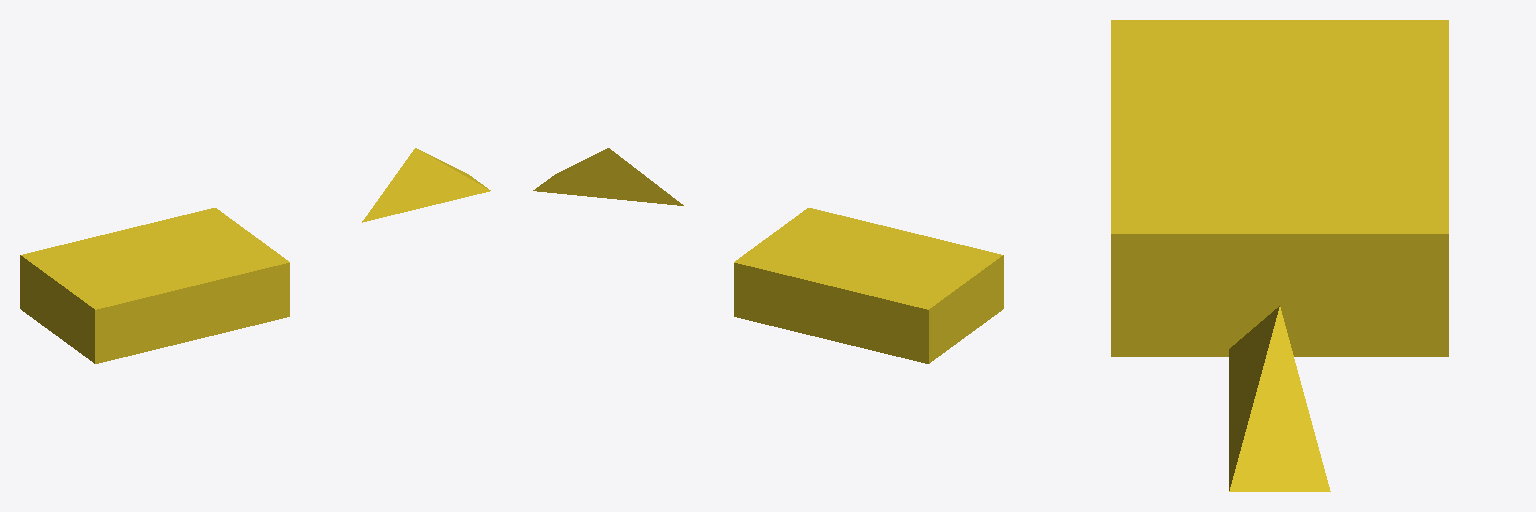
URDF robot description (ViewerAnalysisFixture):
<?xml version="1.0" encoding="UTF-8"?>
<robot name="ViewerAnalysisFixture">
  <material name="yellow"><color rgba="0.9 0.8 0.2 1"/></material>
  <link name="body">
    <inertial>
      <origin xyz="0.01 0 0" rpy="0 0 0"/>
      <mass value="1.25"/>
      <inertia ixx="0.010" ixy="0" ixz="0" iyy="0.020" iyz="0" izz="0.030"/>
    </inertial>
    <visual name="body_visual">
      <geometry><box size="0.3 0.2 0.08"/></geometry>
      <material name="yellow"/>
    </visual>
    <collision name="body_collision">
      <geometry><box size="0.34 0.24 0.12"/></geometry>
    </collision>
  </link>
  <link name="arm">
    <!-- Intentionally no inertial block: UI must report unknown, not loader's zero defaults. -->
    <visual name="arm_visual">
      <origin xyz="0.25 0 0" rpy="0 0 0"/>
      <geometry><mesh filename="package://viewer_robot/meshes/arm.obj"/></geometry>
      <material name="yellow"/>
    </visual>
  </link>
  <joint name="shoulder" type="revolute">
    <parent link="body"/><child link="arm"/>
    <origin xyz="0.15 0 0.06" rpy="0 0 0"/>
    <axis xyz="0 0 1"/>
    <limit lower="-1.20" upper="1.20" effort="15" velocity="2"/>
  </joint>
</robot>

--- Render facts (derived) ---
The picture shows the robot from 3 angles, left to right: view 1: azimuth 30°, elevation 25°; view 2: azimuth 150°, elevation 25°; view 3: azimuth 270°, elevation 25°; orthographic projection.
Robot: ViewerAnalysisFixture — 2 links, 1 joints (1 revolute); root link body; default pose: every joint at zero.
Links seen in each view (by area): view 1: body, arm; view 2: body, arm; view 3: body, arm.
Boxes of the visible links, bbox=[...] form: body: bbox=[20, 208, 289, 363]; arm: bbox=[362, 148, 490, 222]; body: bbox=[734, 208, 1003, 363]; arm: bbox=[533, 148, 683, 205]; body: bbox=[1111, 20, 1448, 356]; arm: bbox=[1229, 306, 1330, 491].
Size in the robot's own frame: 0.65 by 0.2 by 0.15 metres.
Meshes: 1 distinct files referenced, 1 mesh visuals loaded (1 OBJ).
